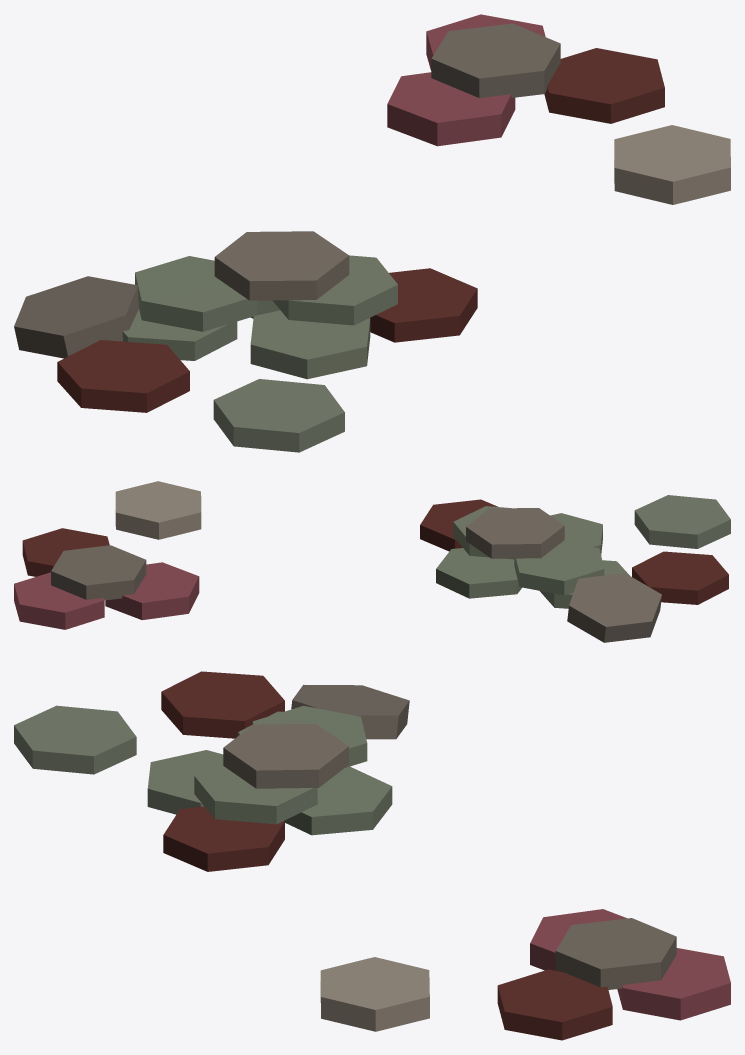
The model's file is forge_coins.gltf.
3 views of the same model, one above another, from view 1: azimuth 30°, elevation 25°; view 2: azimuth 150°, elevation 25°; view 3: azimuth 270°, elevation 25° (orthographic). The views are drawn at different scales.
Visible parts, largest first — view 1: forge_coins; view 2: forge_coins; view 3: forge_coins.
Boxes of the visible parts, left/top/right/bottom form: forge_coins: left=14, top=14, right=730, bottom=452; forge_coins: left=14, top=481, right=730, bottom=642; forge_coins: left=14, top=671, right=730, bottom=1040.
Size of the model in its own units: 0.8163 by 0.0691 by 0.7051.
Materials: 1 (1 with a texture image).
